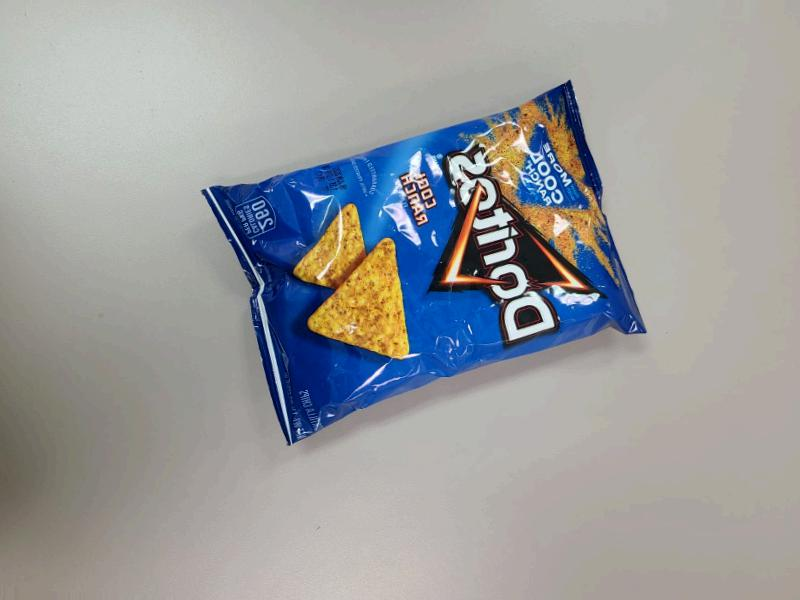doritos: (224, 73, 645, 450)
